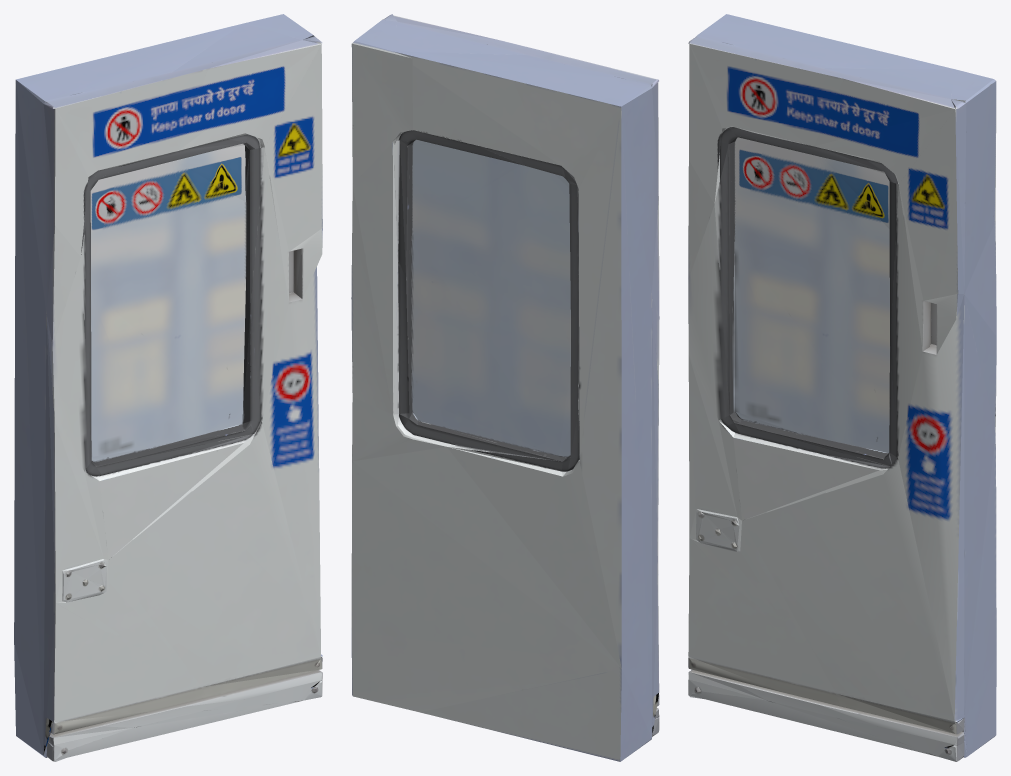
File: Meshy_AI_MetroLeftDoorSolidLowPoly_20261114_texture_remesh_tri.fbx
3 renders of one model, left to right at view 1: azimuth 30°, elevation 25°; view 2: azimuth 150°, elevation 25°; view 3: azimuth 330°, elevation 25°, orthographic.
Parts seen in each view (by area): view 1: output_unwrapped; view 2: output_unwrapped; view 3: output_unwrapped.
Boxes of the visible parts, bbox=[...] form: output_unwrapped: bbox=[14, 14, 322, 761]; output_unwrapped: bbox=[351, 14, 659, 761]; output_unwrapped: bbox=[688, 14, 996, 761].
Size of the model in its own units: 82.27 by 190 by 21.72.
Materials: 1 (1 with a texture image).
